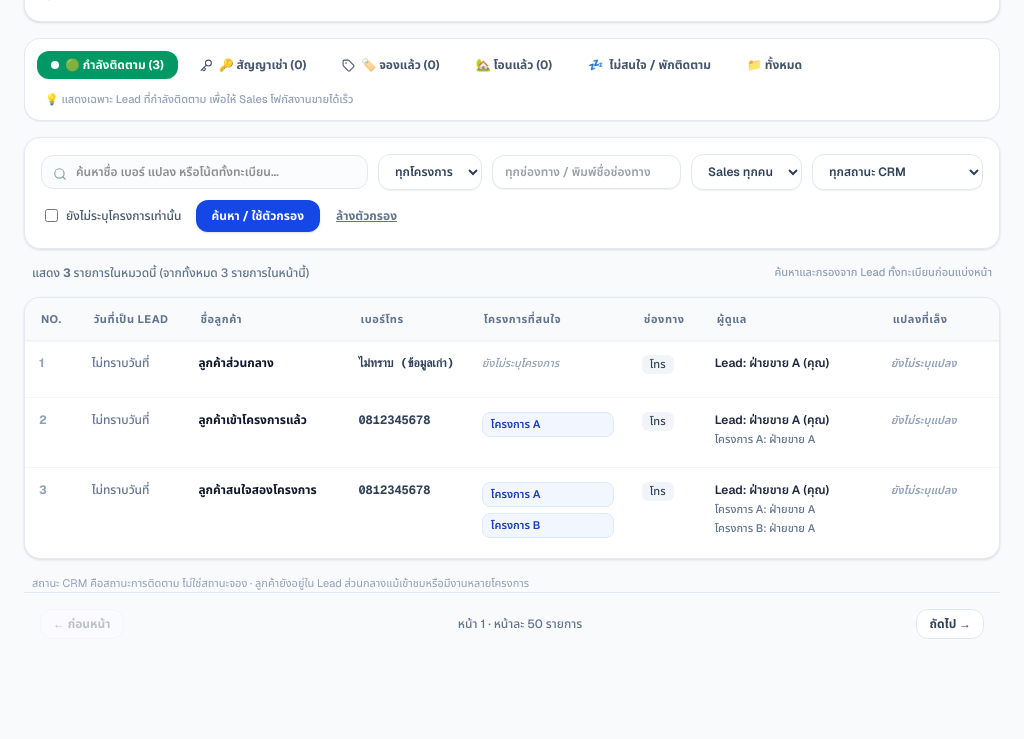
Scenario: central lead workspace › requests another bounded page and never displays old page data as current
(page scrolled)
Expected: the table is shown, [25,298,999,558]
Click the button "ถัดไป →": coordinates (950, 624) [916,609,984,639]
(page scrolled)
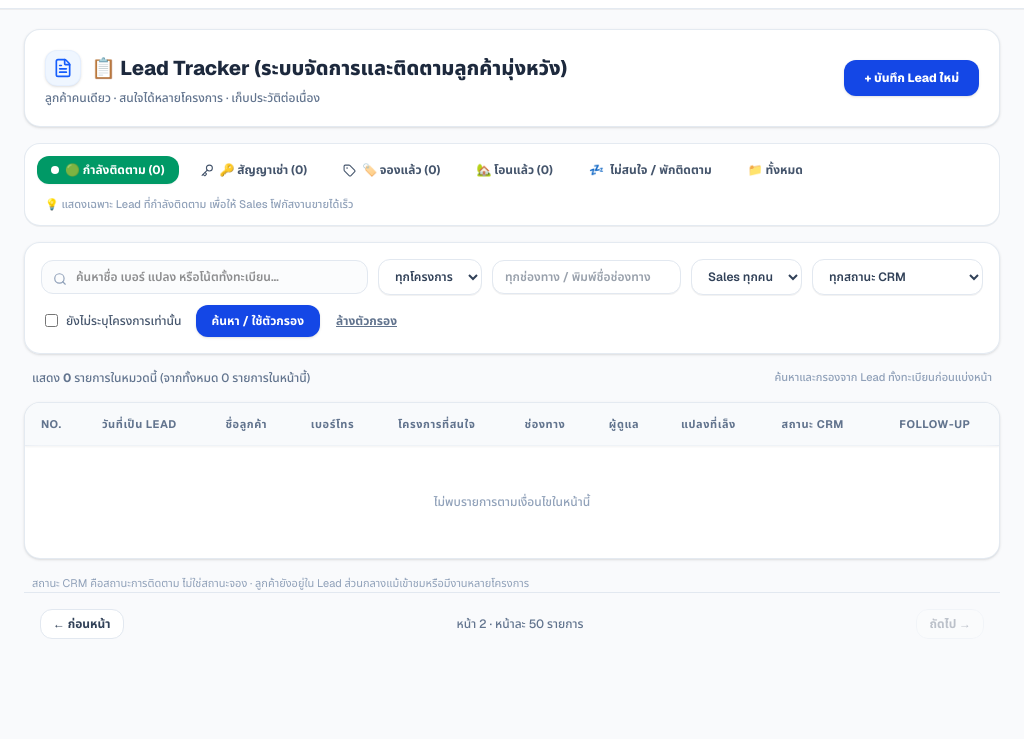
Expected: the text "หน้า 2 · หน้าละ 50 รายการ" is shown, [456,616,584,632]
Expected: the text "ลูกค้าส่วนกลาง" is gone
